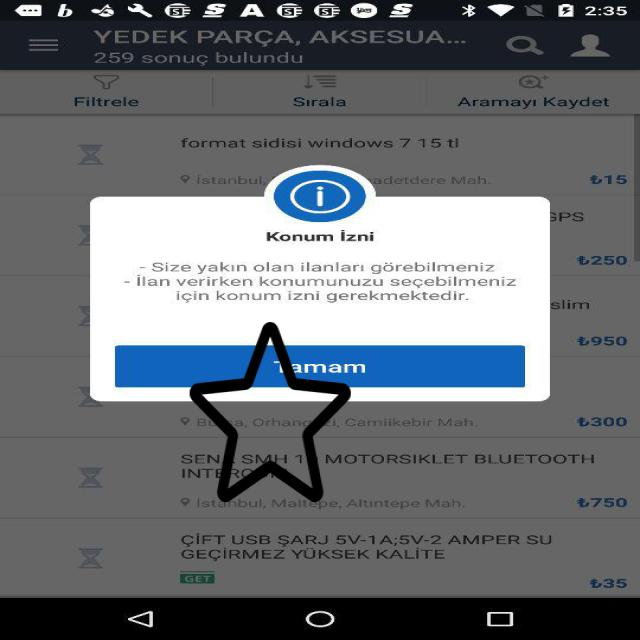forced continuity: (190, 318, 350, 506)
